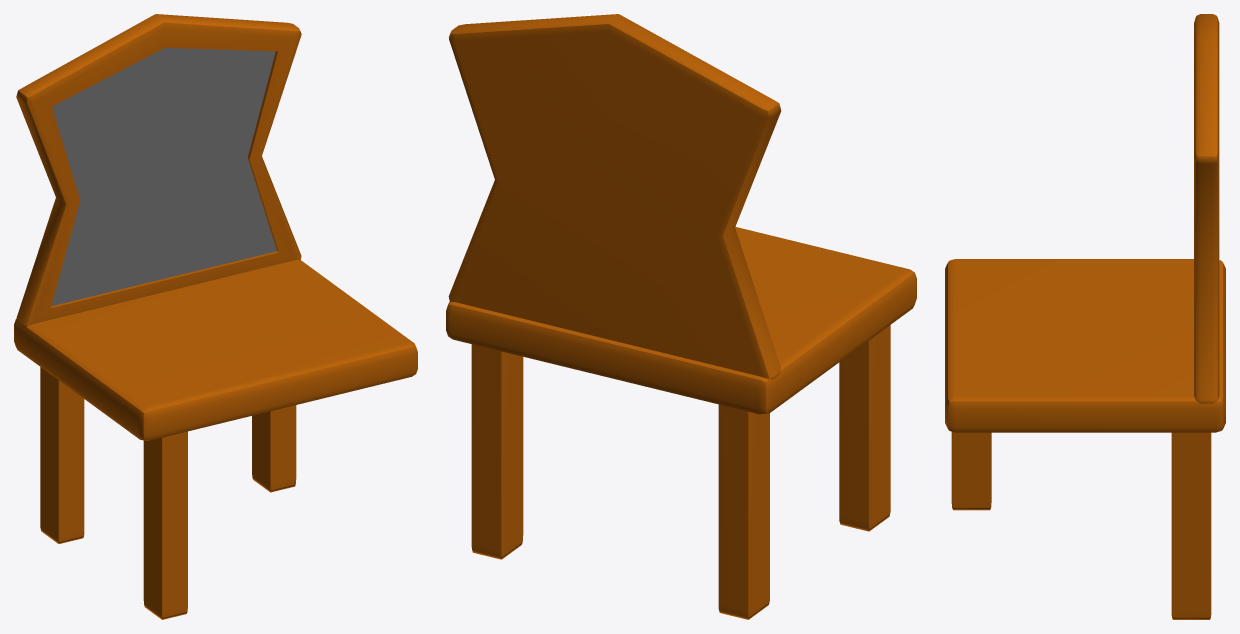
The model's file is chair.1.fbx.
The picture shows the model from 3 angles, left to right: view 1: azimuth 30°, elevation 25°; view 2: azimuth 150°, elevation 25°; view 3: azimuth 270°, elevation 25°; orthographic projection. The views are drawn at different scales.
Visible parts, largest first — view 1: polySurface1; view 2: polySurface1; view 3: polySurface1.
Part boxes in pixels (left/top/right/bottom): polySurface1: left=14, top=14, right=417, bottom=619; polySurface1: left=446, top=14, right=916, bottom=619; polySurface1: left=945, top=14, right=1225, bottom=619.
Bounding box in the file's own units: 6.27 × 10.47 × 5.14.
